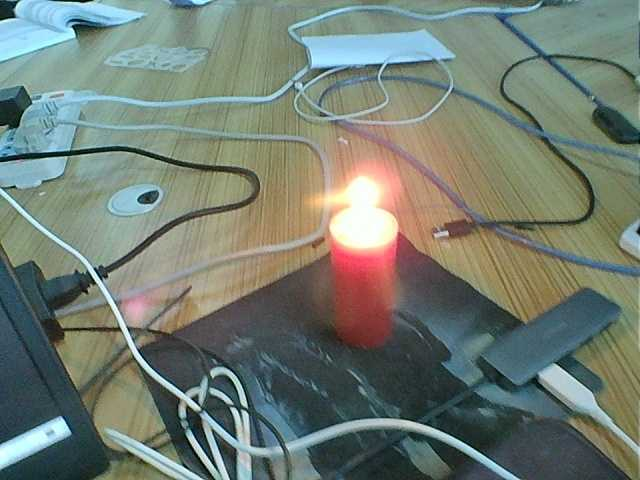candle: (322, 241, 404, 347), (338, 175, 390, 241)
